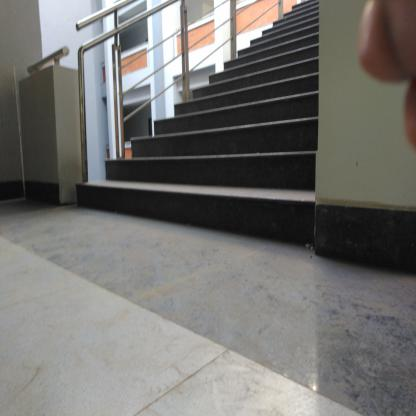stairs: (224, 63, 314, 253)
